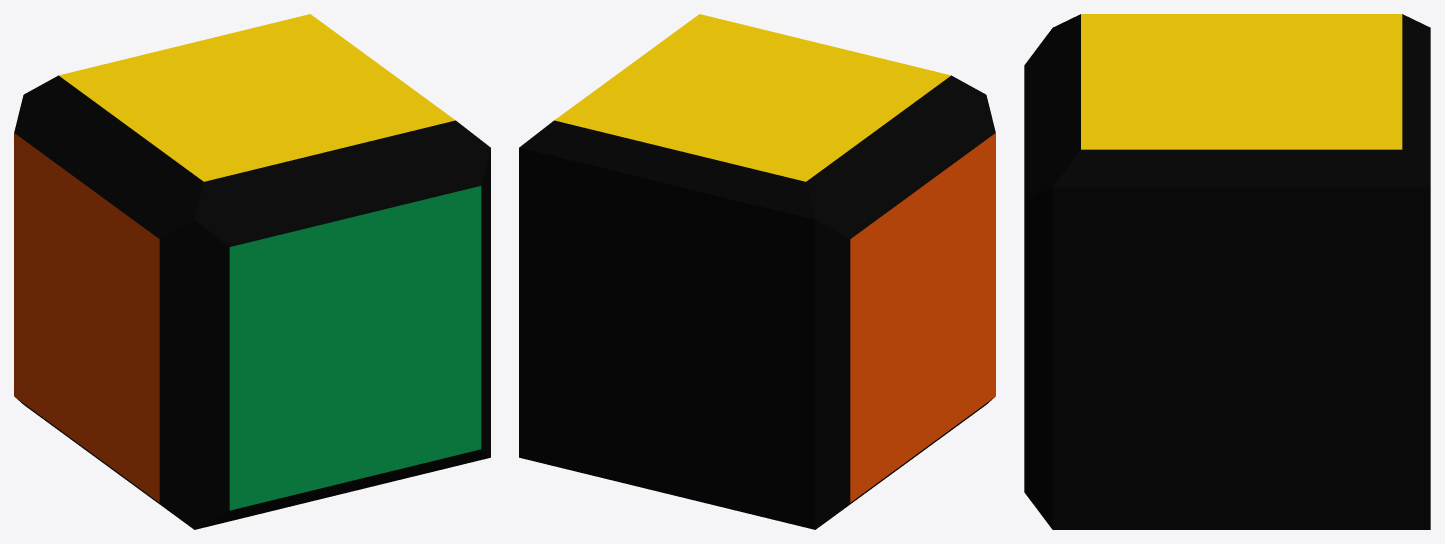
Rendered from rubiks_cube_3.glb.
3 views of the same model, side by side, from view 1: azimuth 30°, elevation 25°; view 2: azimuth 150°, elevation 25°; view 3: azimuth 270°, elevation 25° (orthographic). The views are drawn at different scales.
Parts seen in each view (by area): view 1: Cube3.001; view 2: Cube3.001; view 3: Cube3.001.
Boxes of the visible parts, left/top/right/bottom form: Cube3.001: left=14, top=14, right=490, bottom=529; Cube3.001: left=519, top=14, right=995, bottom=529; Cube3.001: left=1024, top=14, right=1430, bottom=529.
Size of the model in its own units: 2.15 by 2.15 by 2.15.
